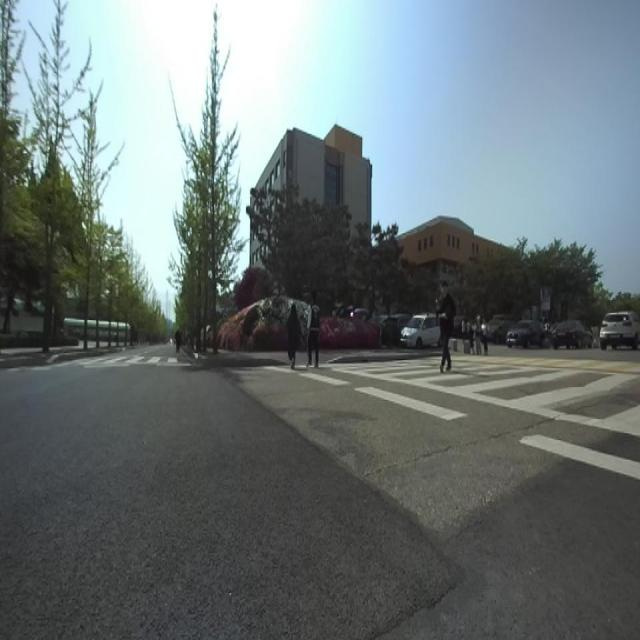sidewalk: (320, 349, 377, 360), (240, 351, 288, 362), (297, 351, 306, 364), (327, 359, 330, 363)
